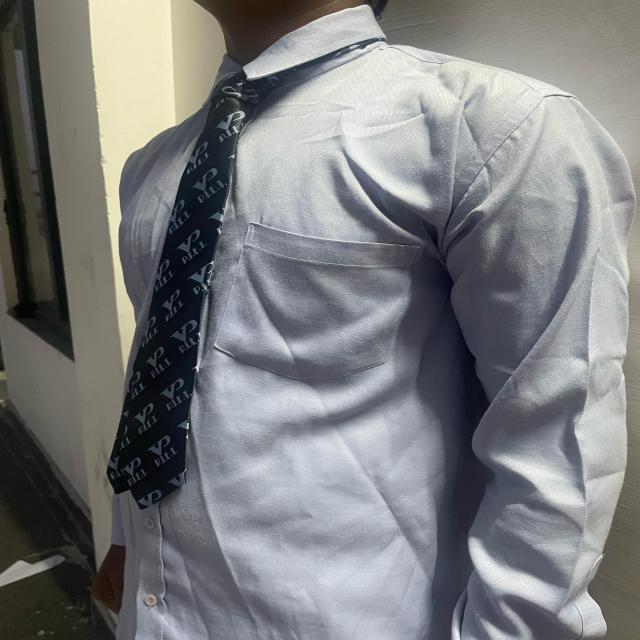Tie: (105, 37, 385, 510)
uniform: (103, 4, 634, 639)
